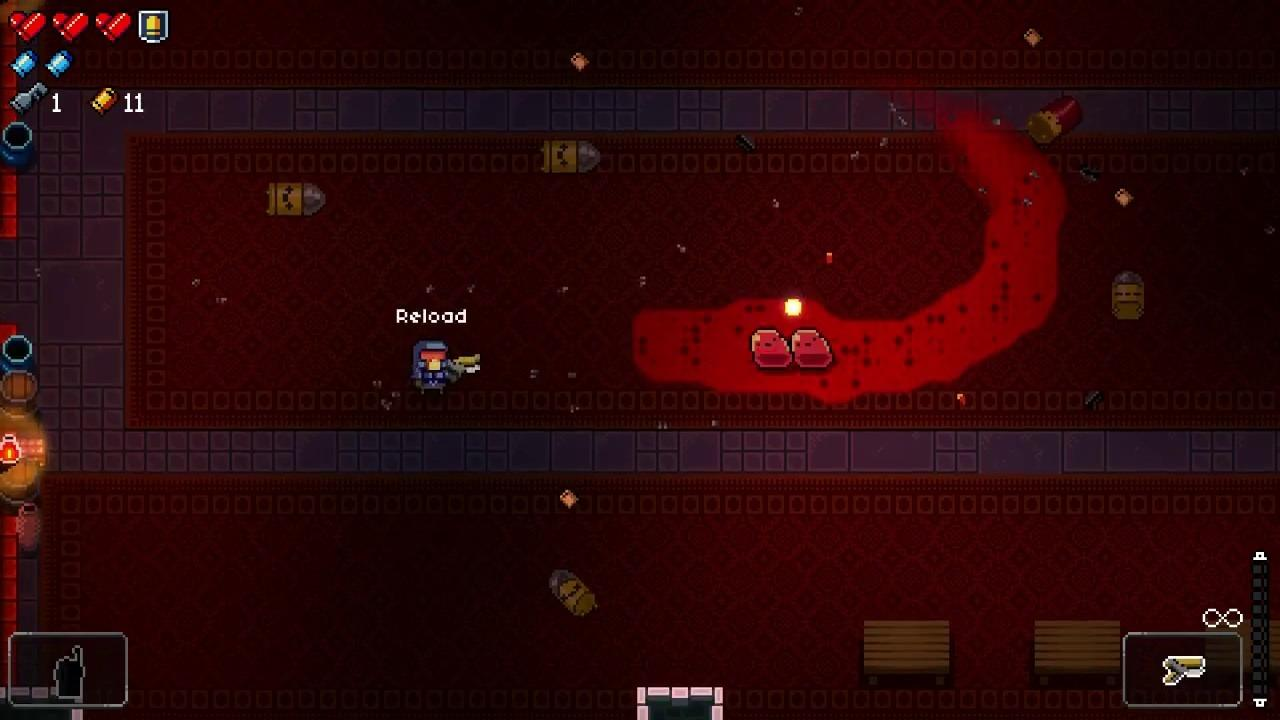blobuloid_m: (789, 327, 834, 370), (751, 327, 794, 369)
dead_bullet_kin: (549, 569, 597, 617), (266, 181, 327, 216), (542, 139, 601, 174), (1111, 270, 1144, 320)
dead_red_shotgun_kin: (1027, 94, 1085, 144)
player: (413, 340, 448, 394)
table: (1034, 621, 1118, 685), (865, 622, 949, 685)
